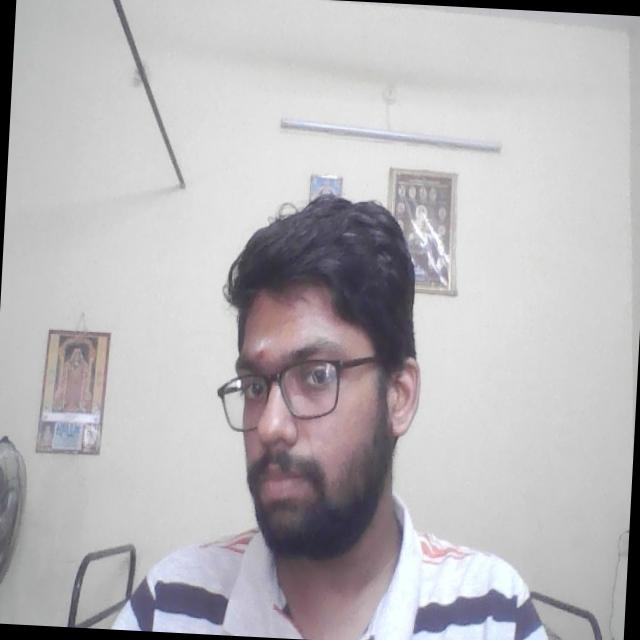Focused: (213, 290, 394, 525)
